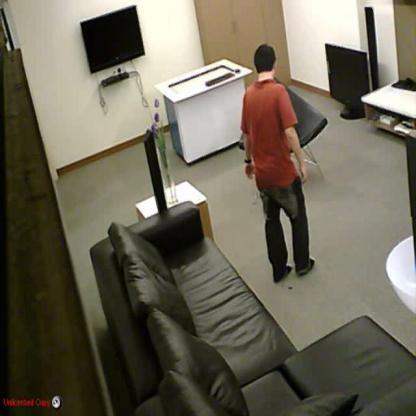Person: (240, 42, 316, 282)
